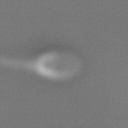normal: (1, 55, 37, 77)
